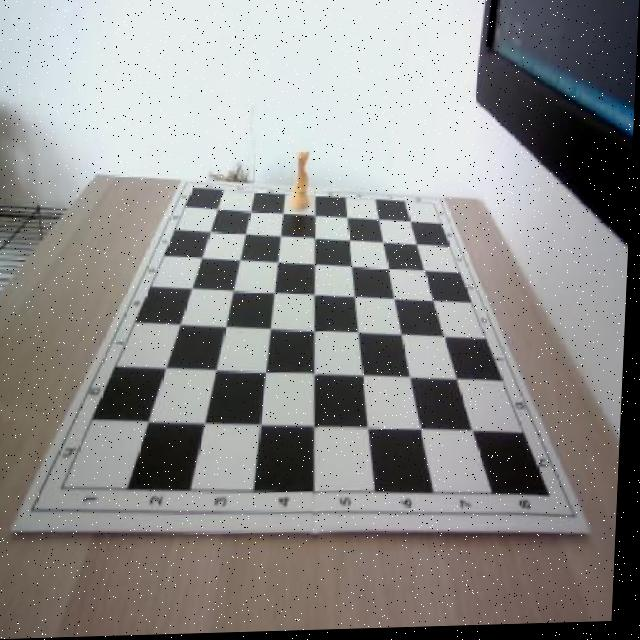white-king: (291, 150, 314, 213)
